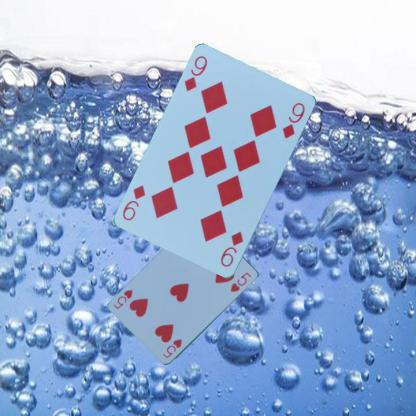5h: (160, 337, 183, 360)
9d: (218, 228, 245, 269), (182, 53, 209, 93)
